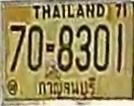0: (93, 24, 109, 70), (27, 24, 43, 70)
1: (117, 22, 122, 73)
3: (74, 24, 90, 70)
7: (10, 24, 26, 72)
8: (57, 24, 72, 71)
KRI: (35, 77, 101, 99)
